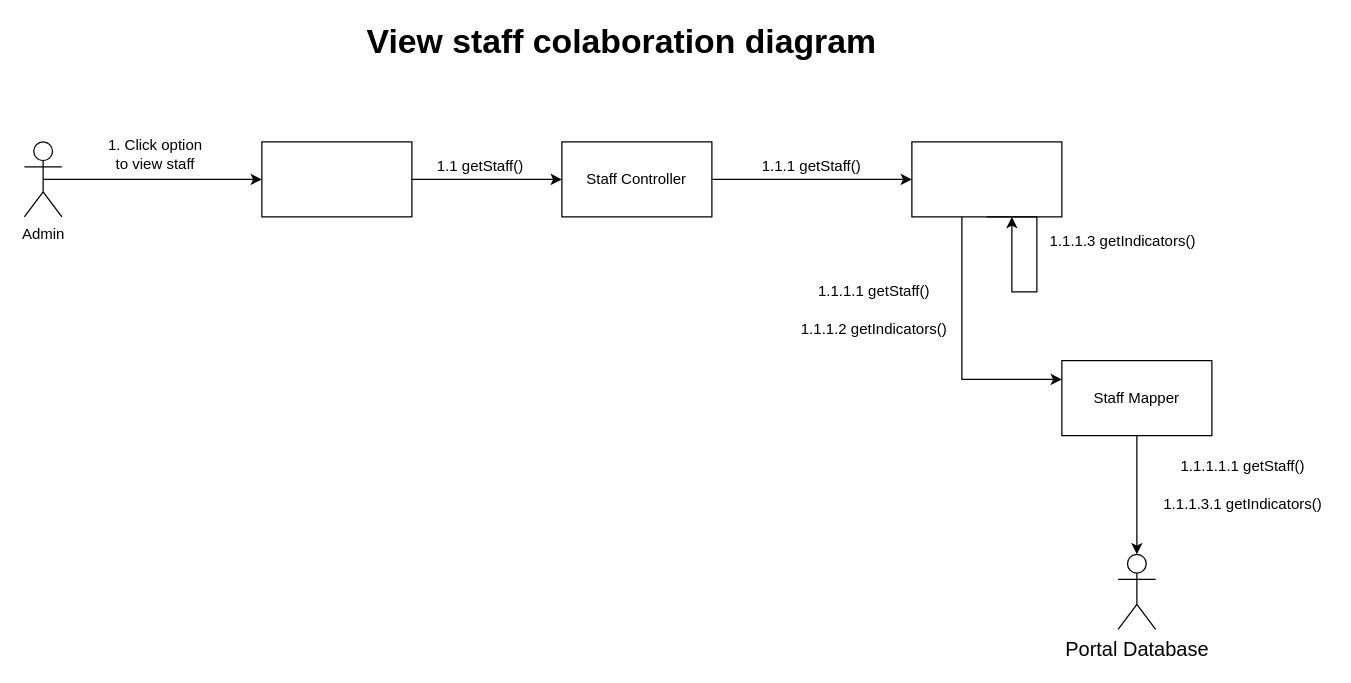
Some shapes in this 1351 by 683 pixel diagram are drawn without their labels. Here are the shapes that lost their labels. From the top down, the centre of each, then its label:
At [336,179]: "HTML window".
At [986,179]: "Staff Service".
